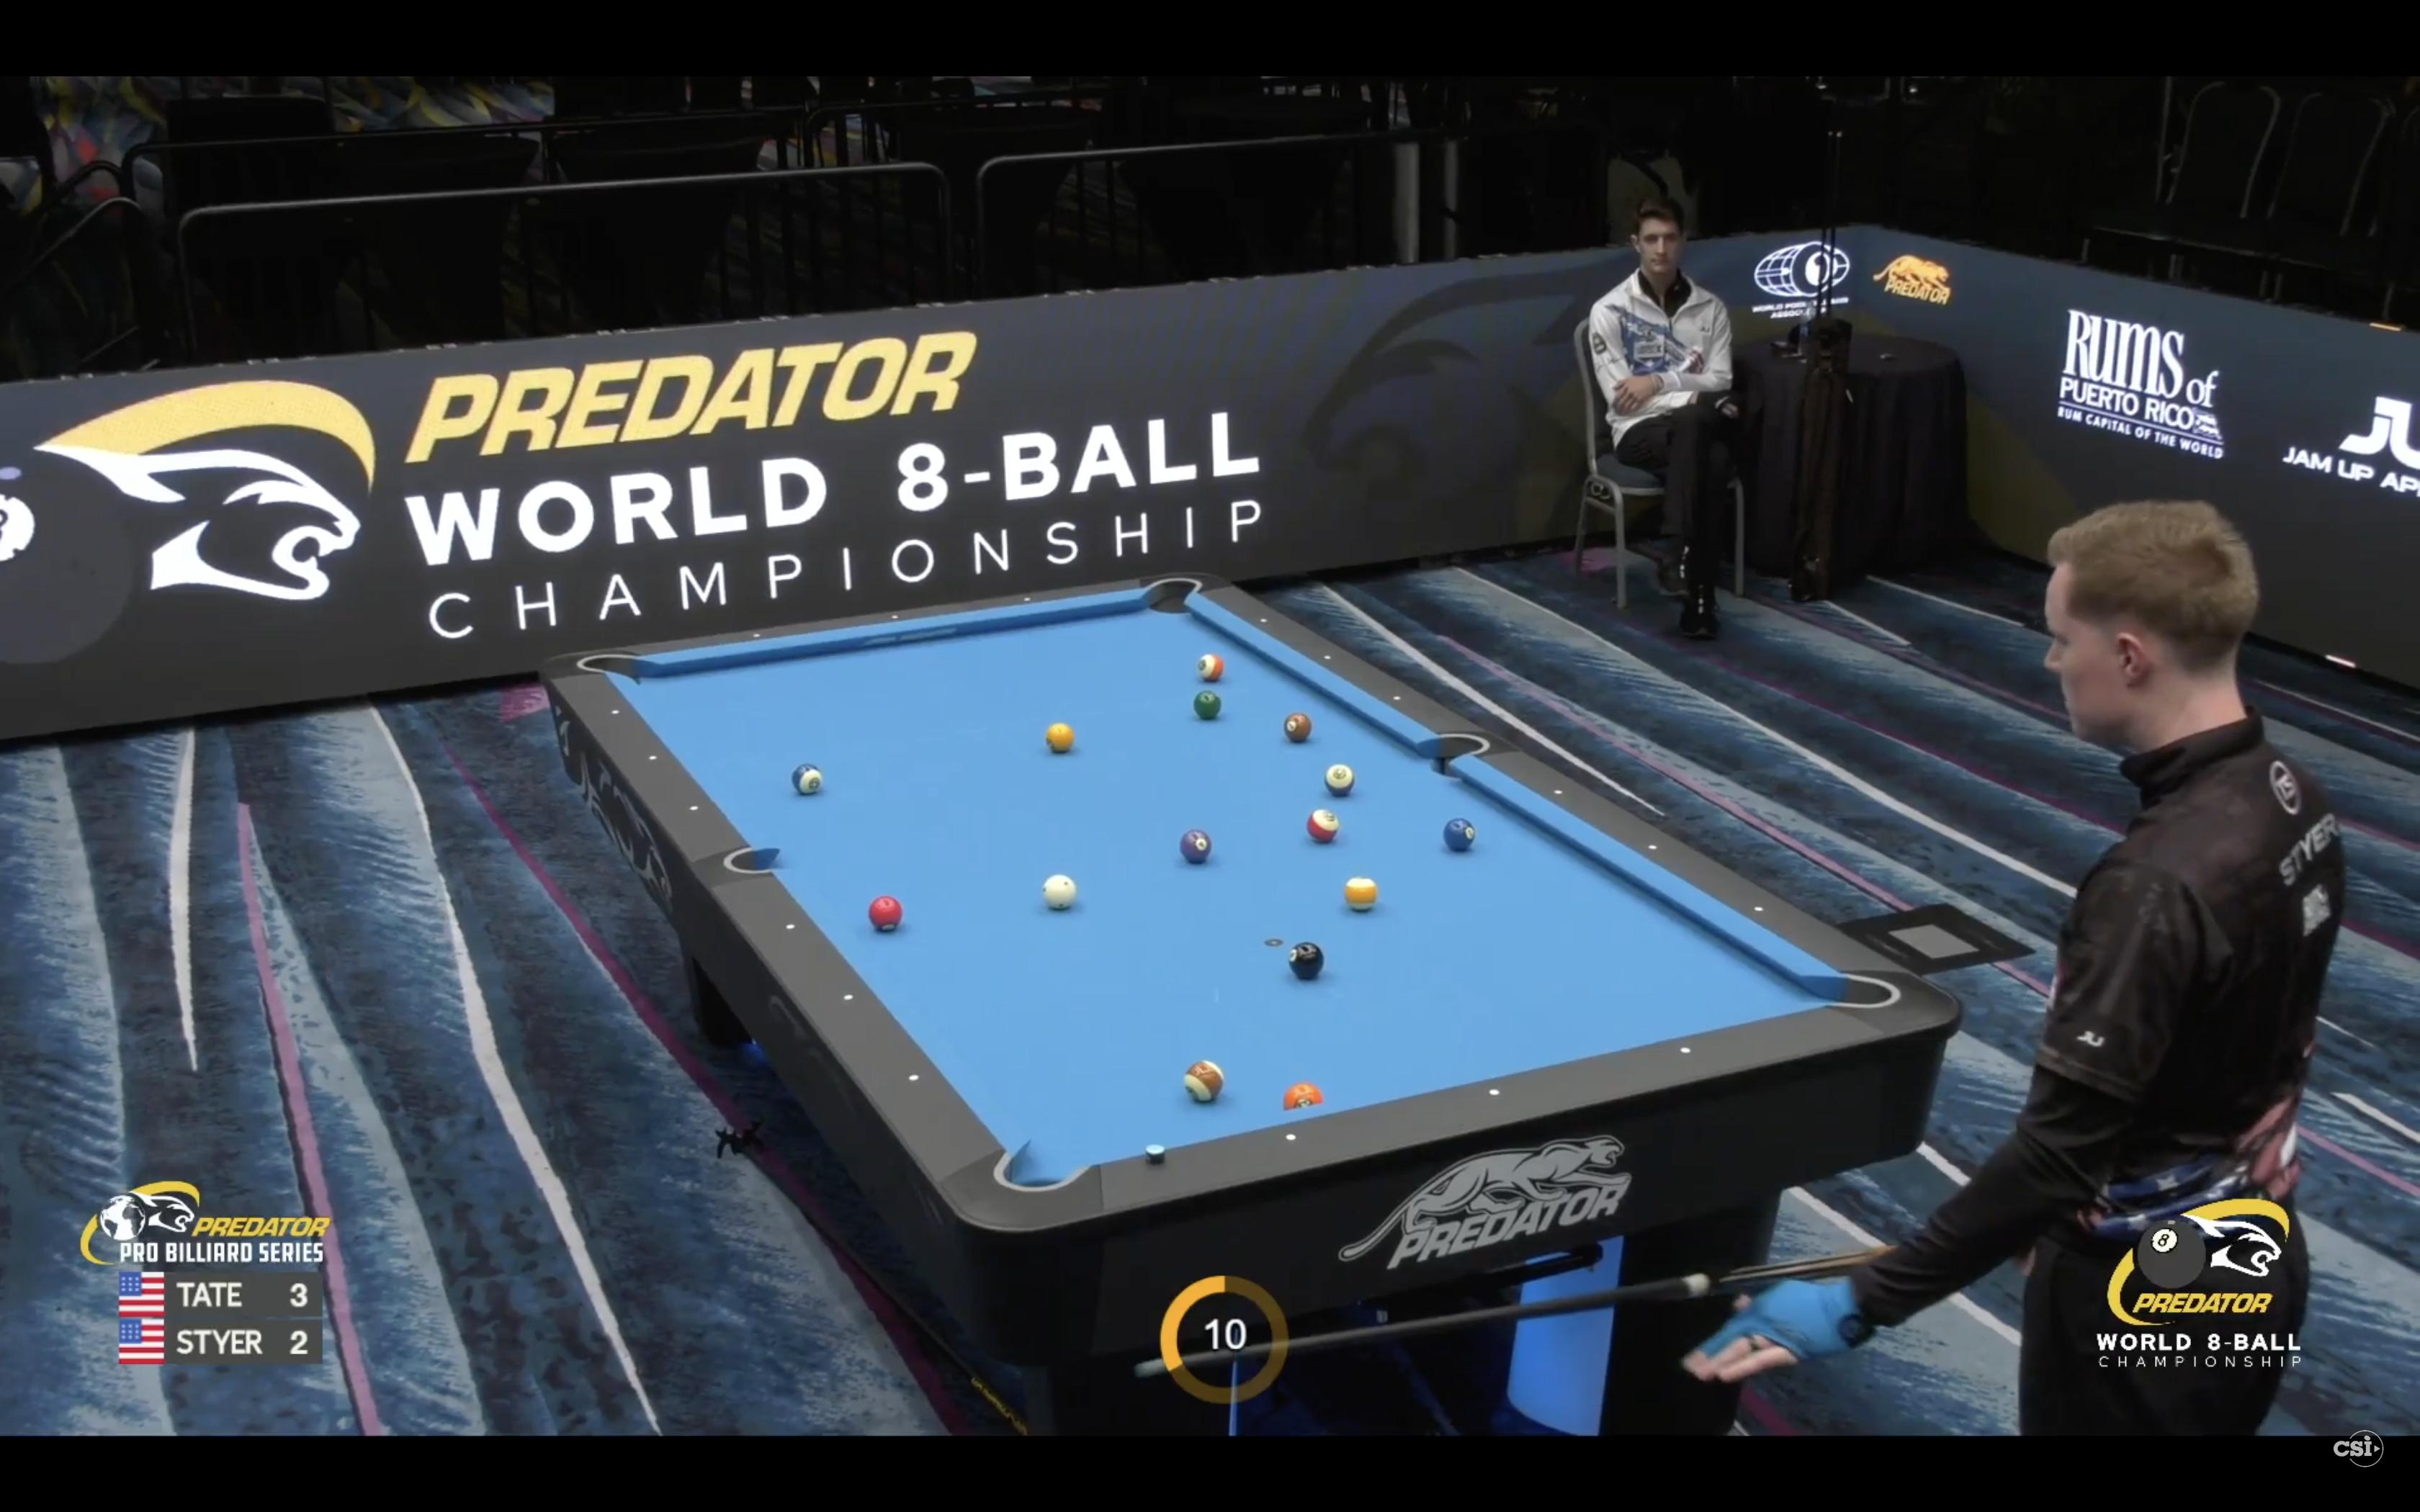Cue: (1288, 941, 1326, 979), (1040, 873, 1078, 909)
Dot: (1488, 1087, 1502, 1097), (1680, 1045, 1693, 1056), (1286, 1132, 1298, 1141), (908, 1073, 920, 1082), (843, 993, 854, 1002), (1646, 843, 1659, 850), (1322, 653, 1333, 660), (610, 709, 620, 716), (648, 754, 659, 761), (786, 923, 796, 930), (1754, 906, 1763, 913), (1023, 596, 1031, 603), (690, 805, 699, 812), (1554, 789, 1563, 794), (1392, 695, 1401, 700), (1260, 618, 1268, 624), (890, 615, 899, 620), (753, 632, 761, 638)
Solid: (866, 894, 906, 934), (1282, 1082, 1326, 1113), (1180, 827, 1214, 864), (1443, 817, 1477, 852), (1044, 721, 1077, 754), (1284, 711, 1314, 744), (1193, 690, 1223, 719)
Striped: (1181, 1057, 1227, 1104), (1342, 874, 1380, 911), (1305, 808, 1342, 841), (791, 761, 824, 796), (1324, 763, 1357, 796), (1195, 653, 1227, 683)
